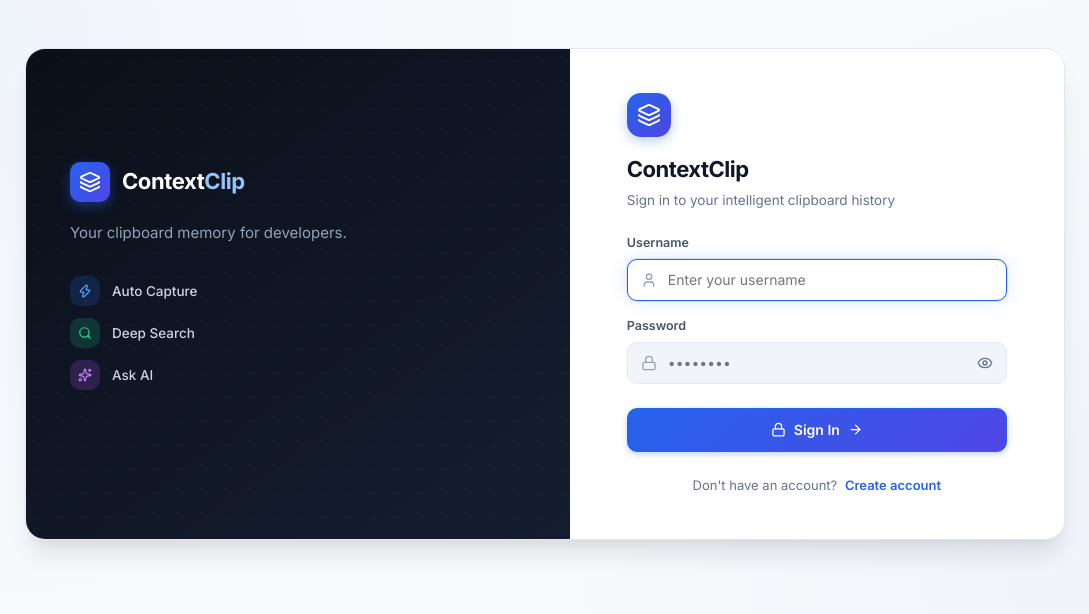
Test: ContextClip Authentication and Application UI Tests › 1. Authentication Flow (Login & Register) › 4. Invalid login shows friendly error message
The width and height of the screenshot is (1089, 614).
Type "wronguser" into the field with test id "login-username" at (817, 280), box [627,259,1007,301]
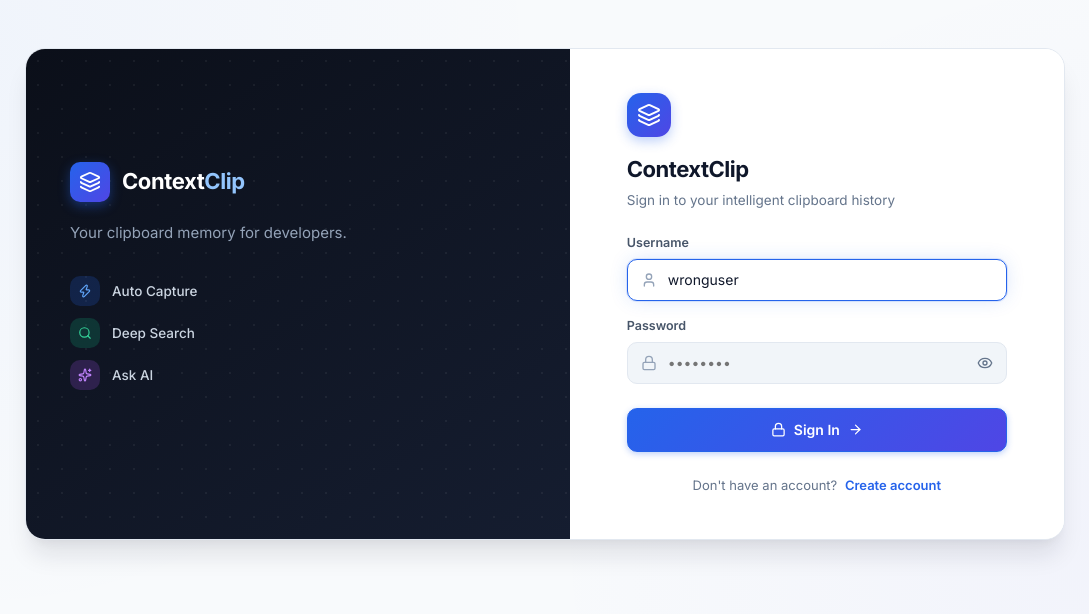
Type "wrongpass" into the password field with test id "login-password" at (817, 363), box [627,342,1007,384]
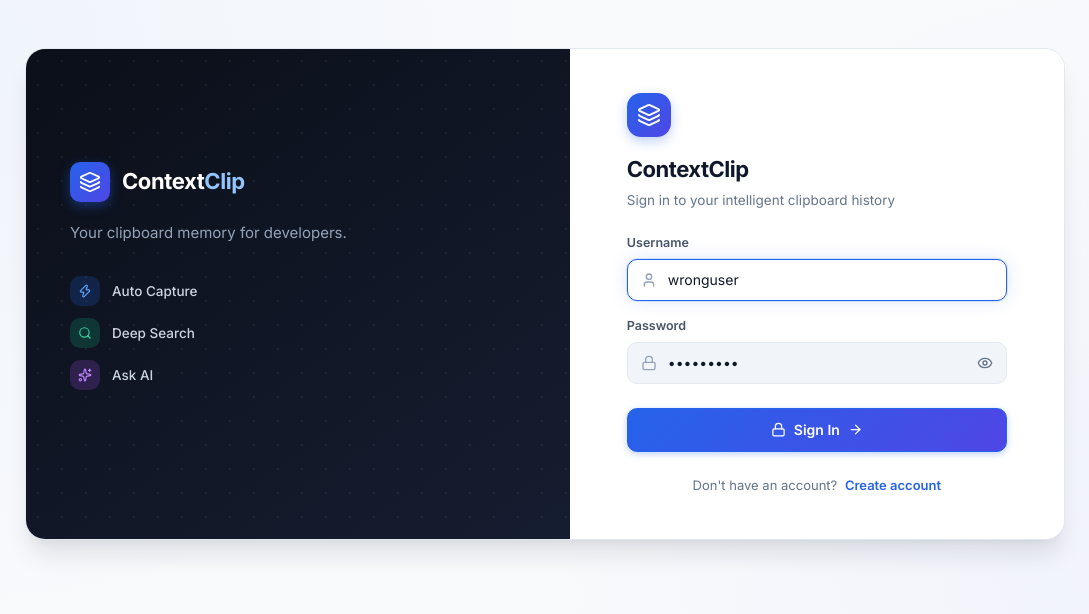
Click the button with test id "login-submit" at (817, 430), box [627,408,1007,452]
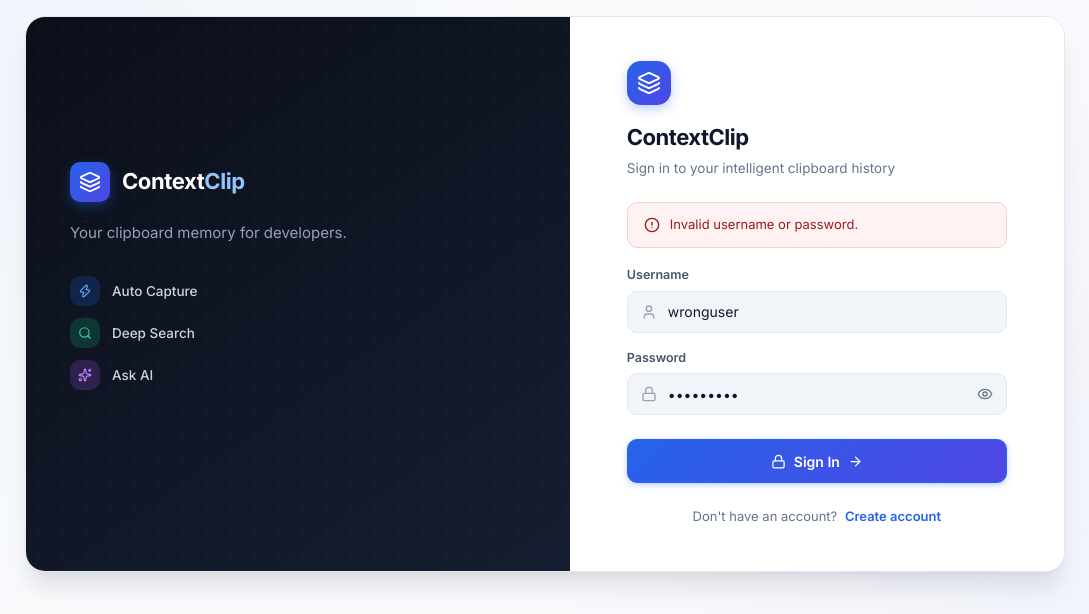
Now the message "Invalid username or password." is shown, box [627,202,1007,248]
Now the text "Invalid username or password." is shown, box [670,215,858,235]
